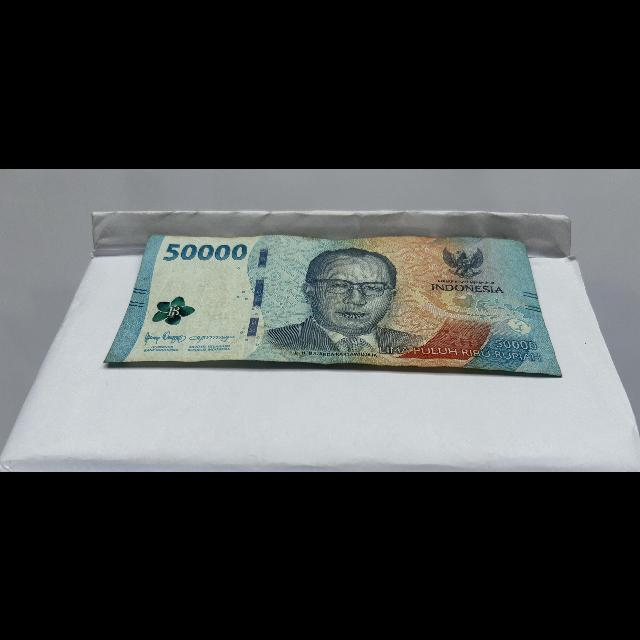Asli-50k: (100, 229, 568, 379)
Tinta-Asli-50k: (150, 294, 199, 326)
